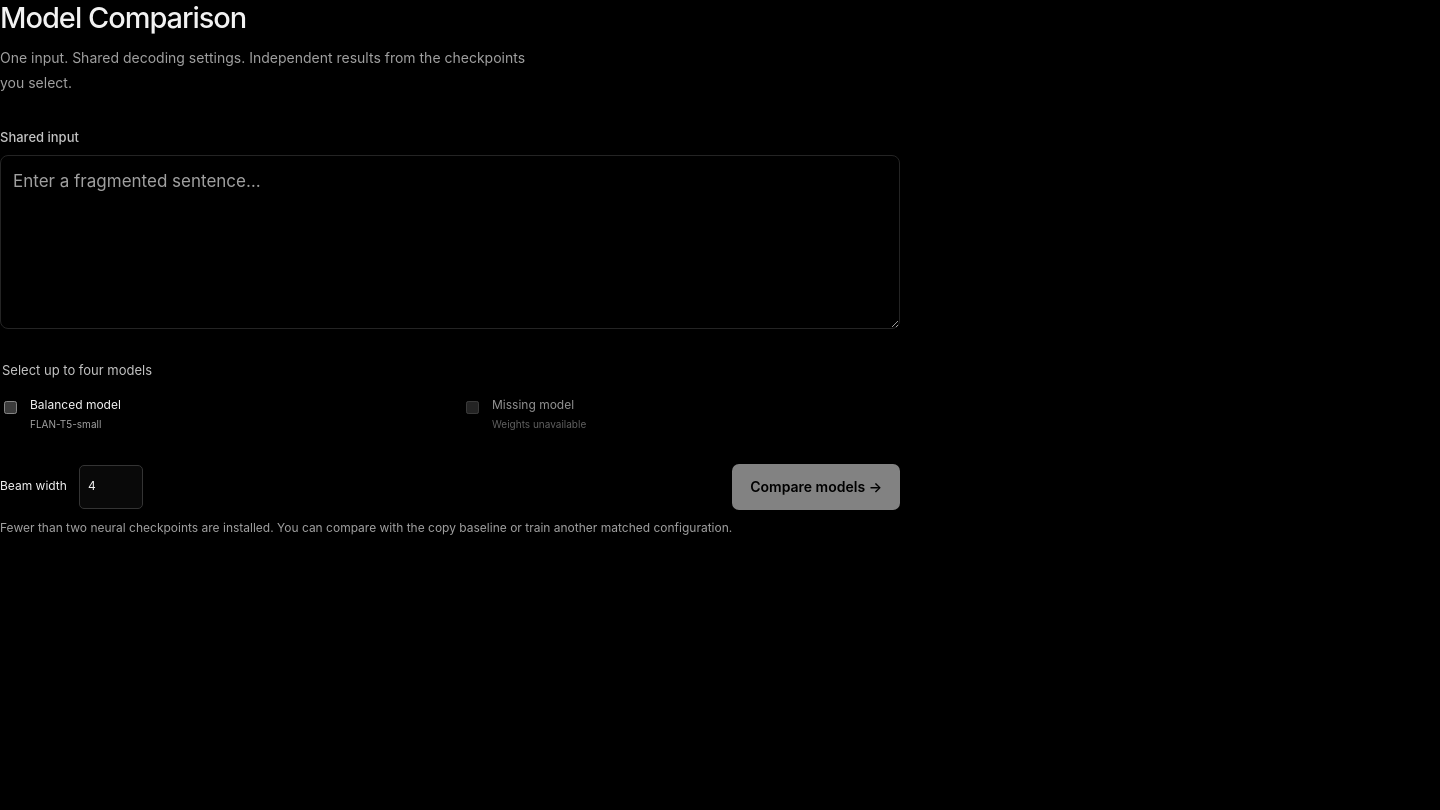
Test: laboratory workflows › compares models using the shared input and renders partial failures
In the text box labelled "Shared input": (450, 242) [0,155,900,329], type "ME GO"
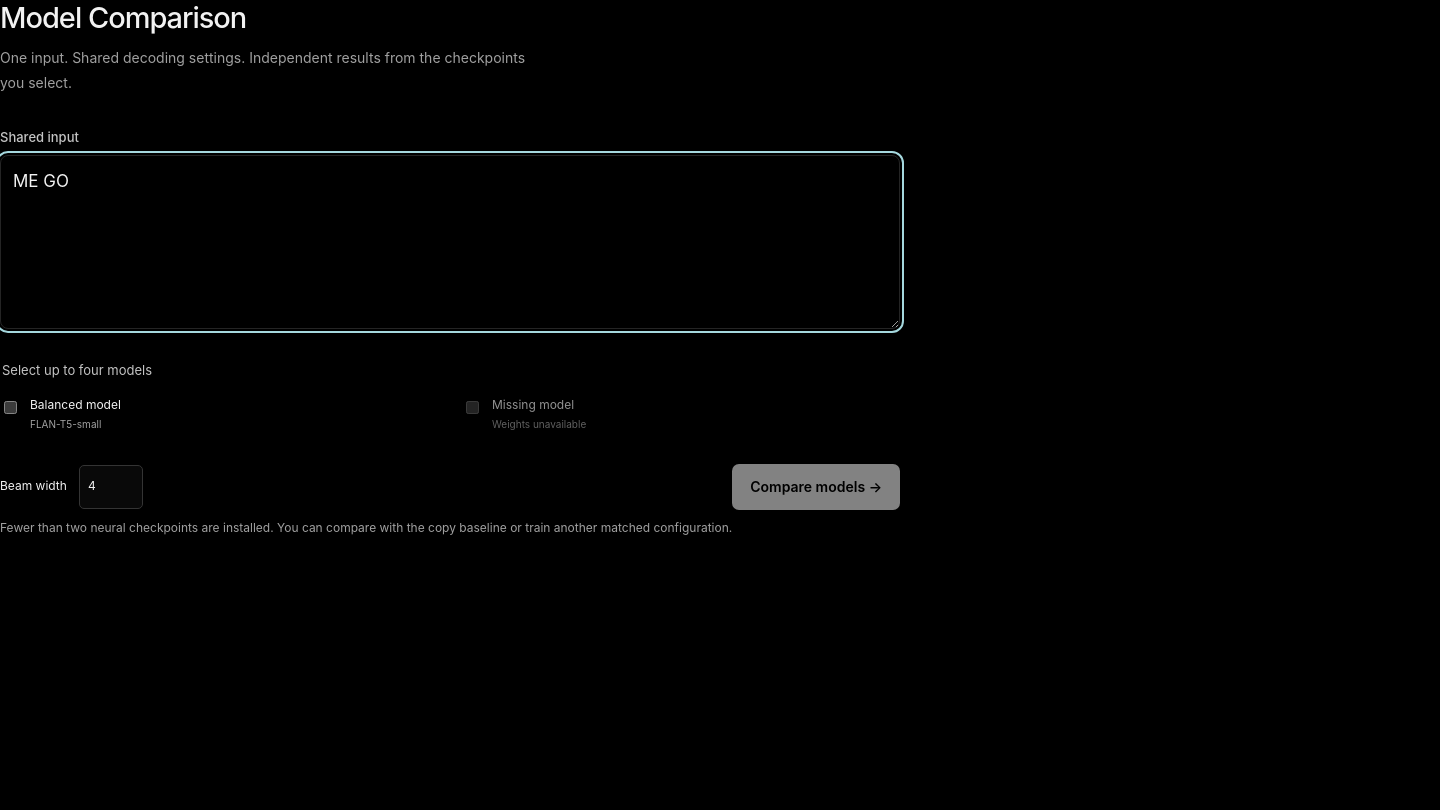
Click the checkbox labelled "Balanced model FLAN-T5-small": (10, 407) [4,401,17,414]
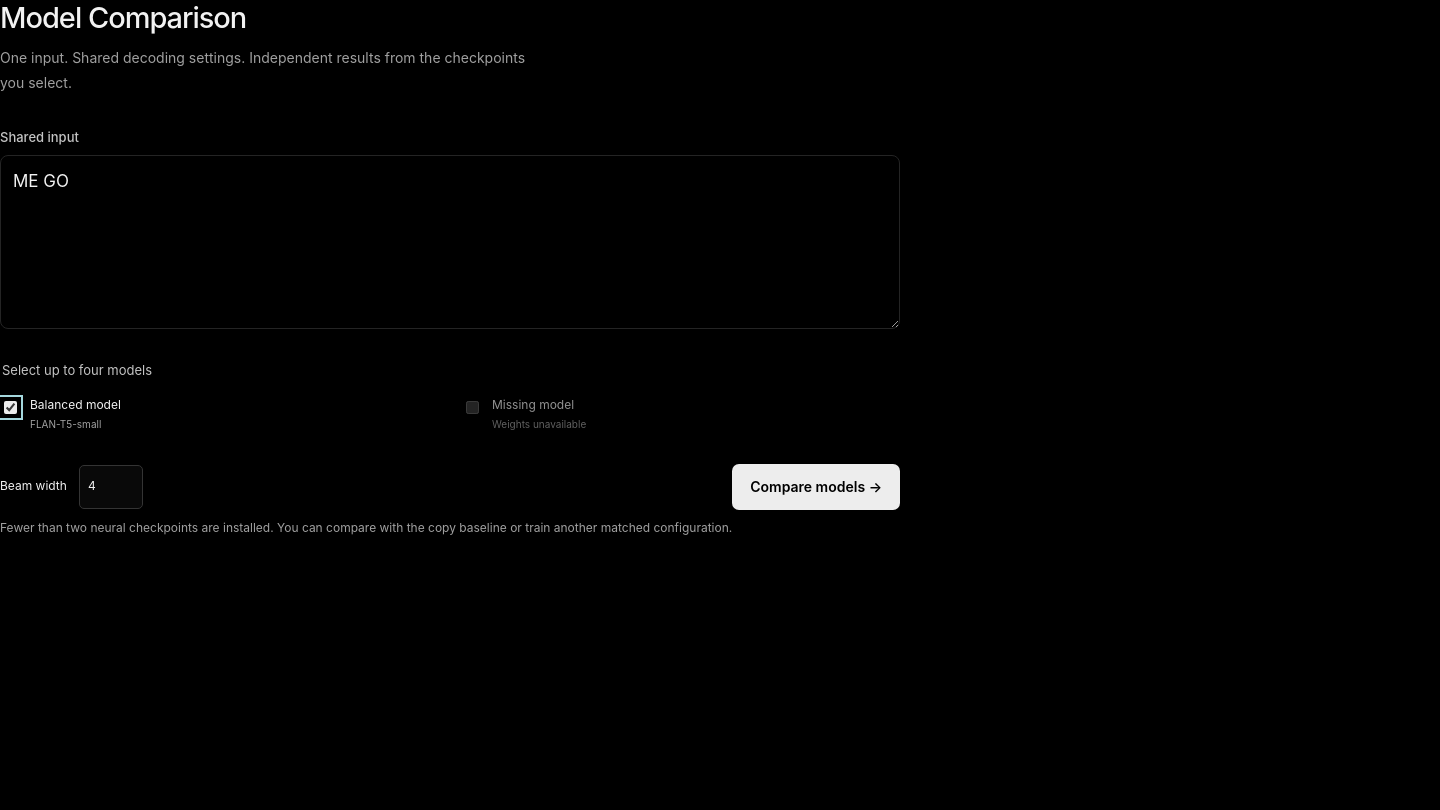
Click the button "Compare models →": (816, 487) [732,464,900,510]
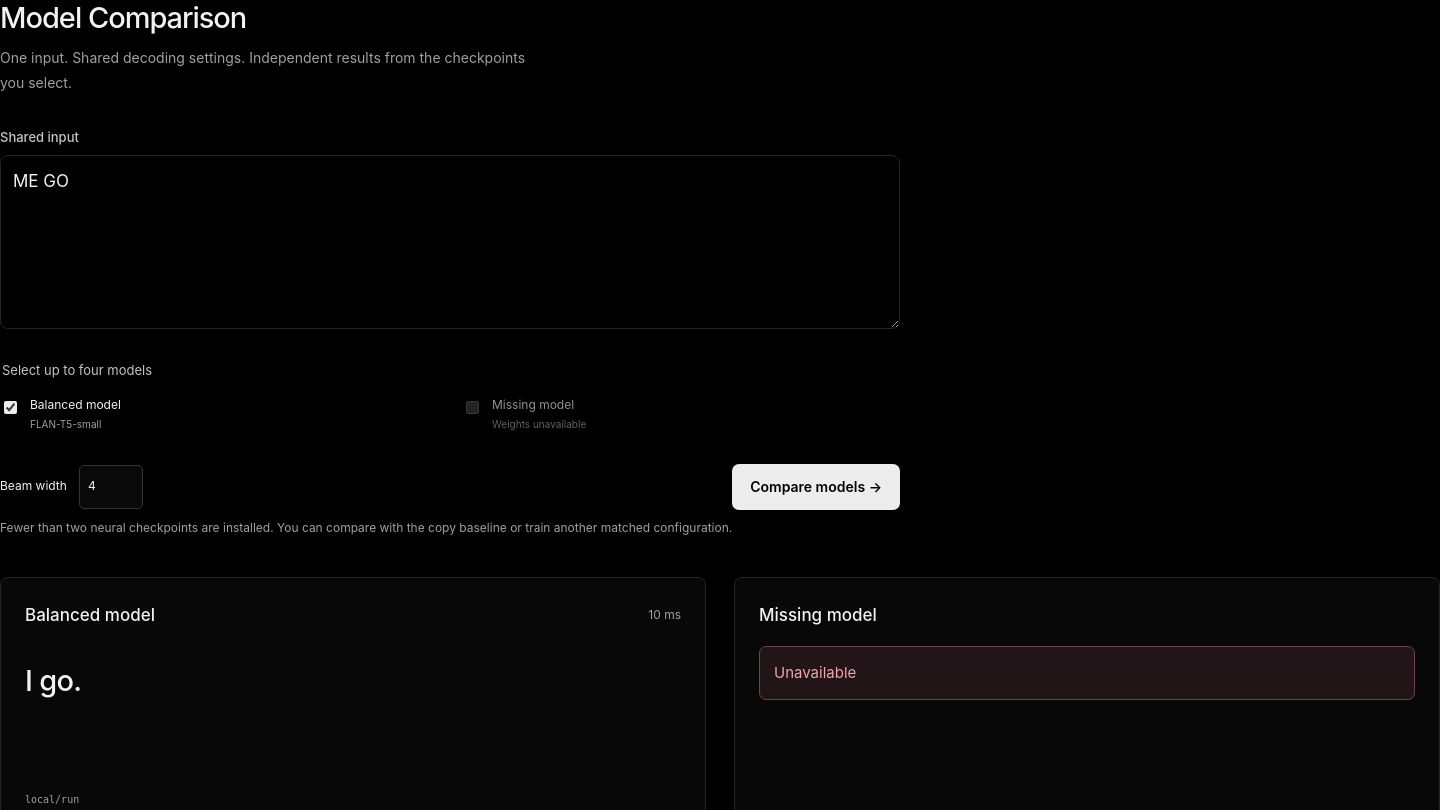
Expected: the text "I go." is shown, [25,663,81,698]
Expected: the text "Unavailable" is shown, [759,646,1415,700]
